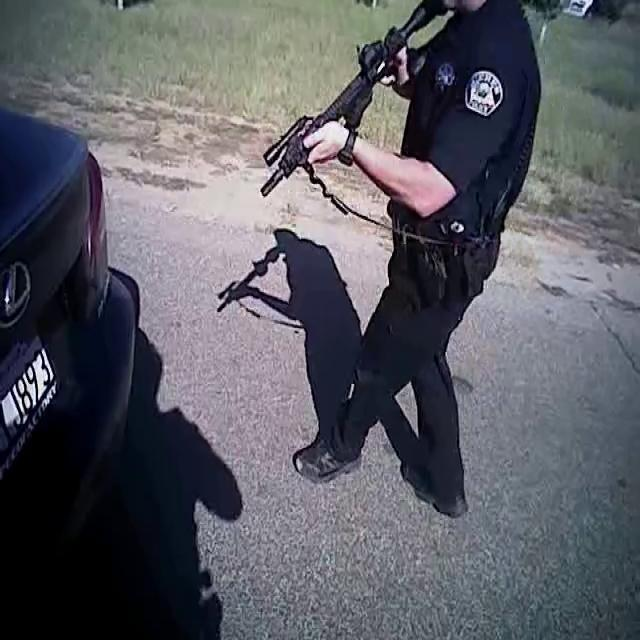gun: (226, 0, 476, 216)
